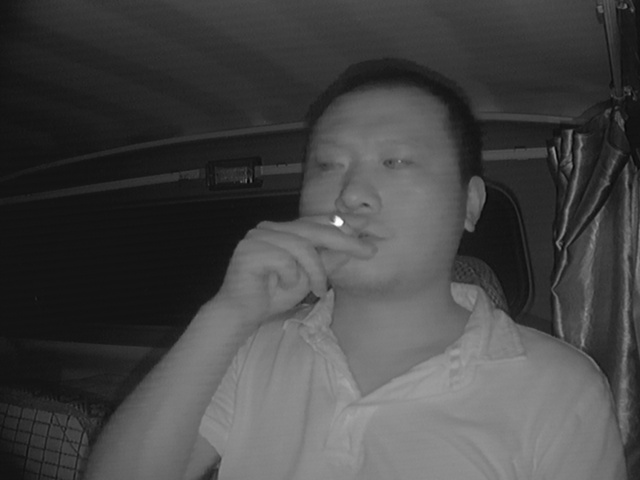hand: (227, 208, 373, 326)
